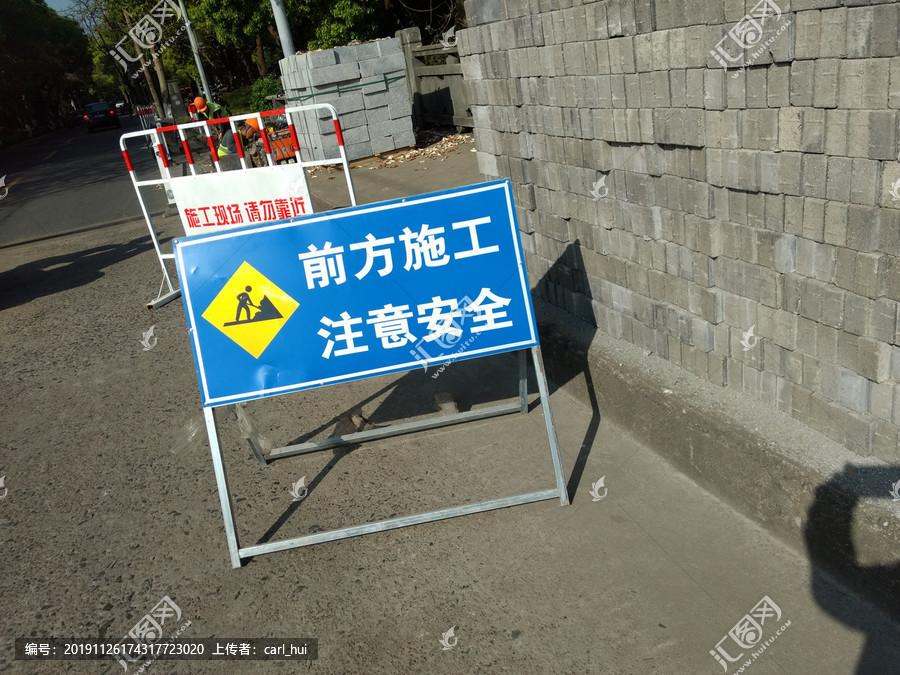sign: (177, 243, 533, 354)
